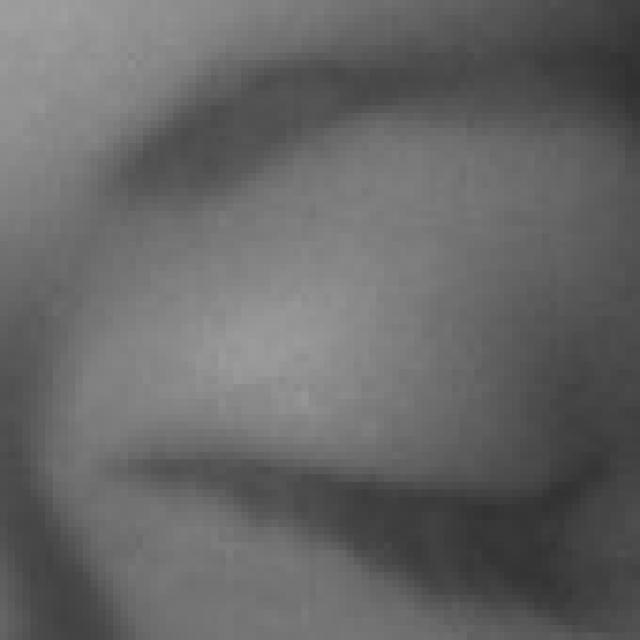Eyeclosed: (120, 235, 599, 640)
